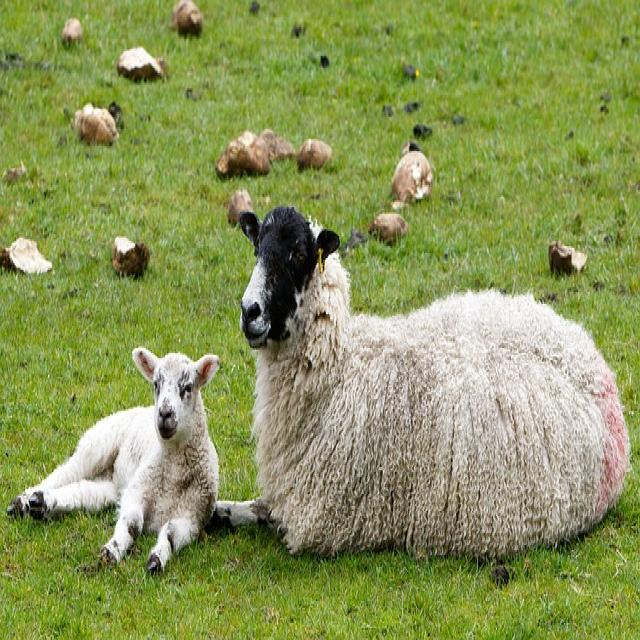goat: (216, 206, 629, 557), (8, 348, 219, 570)
